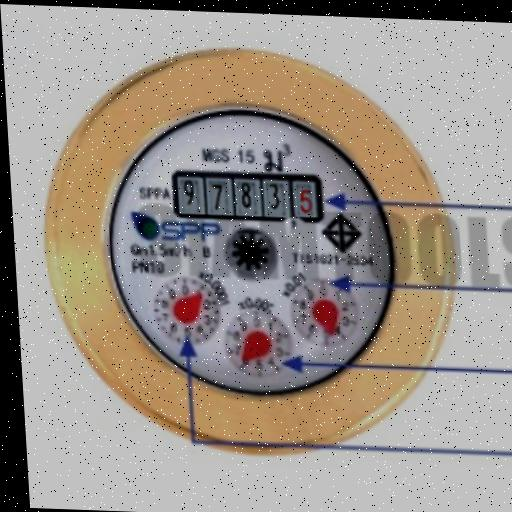3: (268, 185, 285, 217)
5: (298, 186, 315, 216)
7: (210, 182, 227, 215)
8: (238, 182, 257, 215)
9: (181, 181, 200, 214)
border_water_meter_number: (171, 169, 325, 224)
